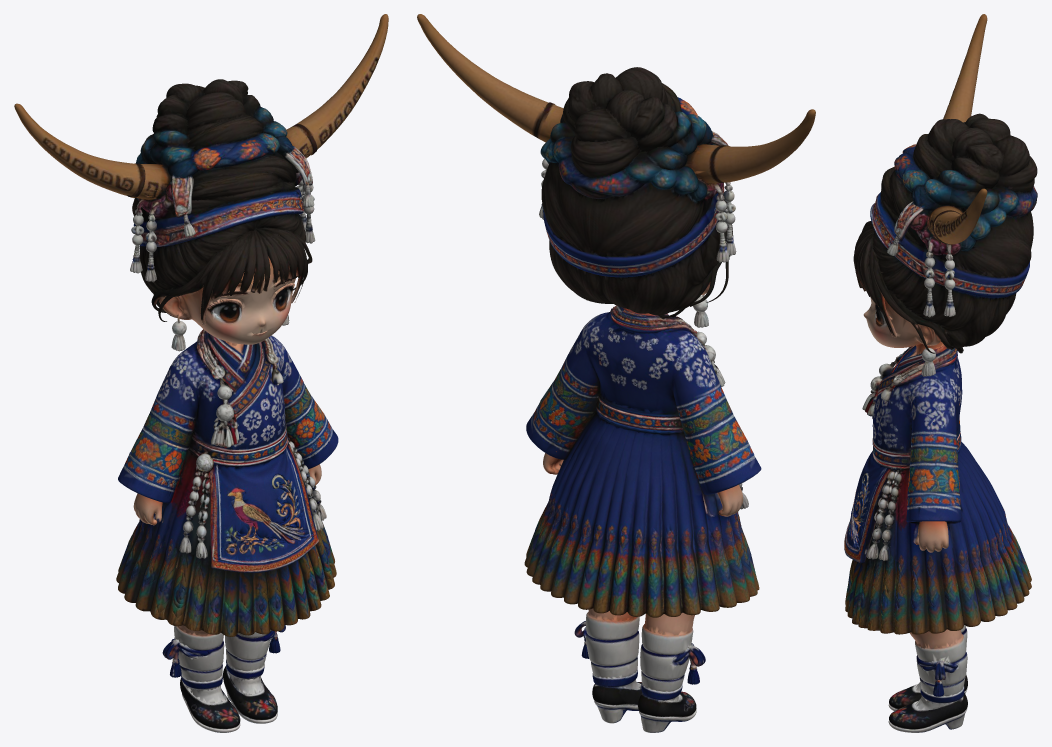
The model's file is MiaoGirl_4.glb.
The picture shows the model from 3 angles, left to right: view 1: azimuth 30°, elevation 25°; view 2: azimuth 150°, elevation 25°; view 3: azimuth 270°, elevation 25°; orthographic projection. The views are drawn at different scales.
Visible parts, largest first — view 1: tripo_node_ae6ce250-d88d-47bf-a21e-b7d432e5a6c0; view 2: tripo_node_ae6ce250-d88d-47bf-a21e-b7d432e5a6c0; view 3: tripo_node_ae6ce250-d88d-47bf-a21e-b7d432e5a6c0.
Part boxes in pixels (bbox=[...]): tripo_node_ae6ce250-d88d-47bf-a21e-b7d432e5a6c0: bbox=[14, 14, 388, 732]; tripo_node_ae6ce250-d88d-47bf-a21e-b7d432e5a6c0: bbox=[417, 14, 815, 732]; tripo_node_ae6ce250-d88d-47bf-a21e-b7d432e5a6c0: bbox=[844, 14, 1037, 732].
Size of the model in its own units: 0.6033 by 0.9805 by 0.2795.
Materials: 1 (1 with a texture image).
